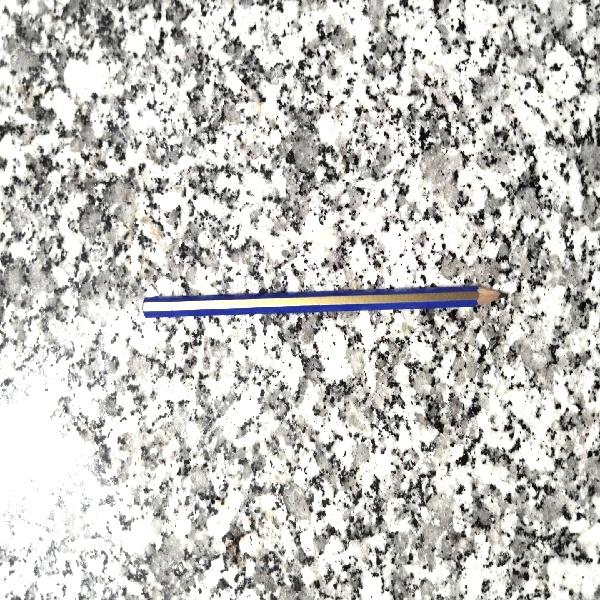pencil: (138, 288, 510, 315)
